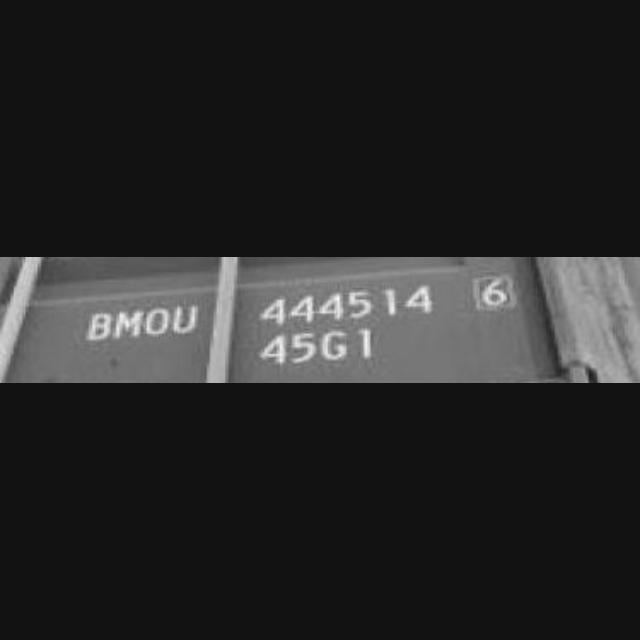1: (353, 325, 381, 365), (380, 285, 400, 323)
4: (258, 292, 288, 330), (406, 279, 436, 317), (260, 332, 288, 370), (322, 289, 346, 325), (292, 291, 316, 325)
5: (289, 329, 317, 367), (346, 286, 374, 322)
6: (475, 273, 515, 317)
b: (86, 308, 112, 344)
g: (320, 326, 348, 366)
m: (114, 304, 146, 342)
o: (144, 302, 172, 338)
u: (172, 300, 202, 340)
